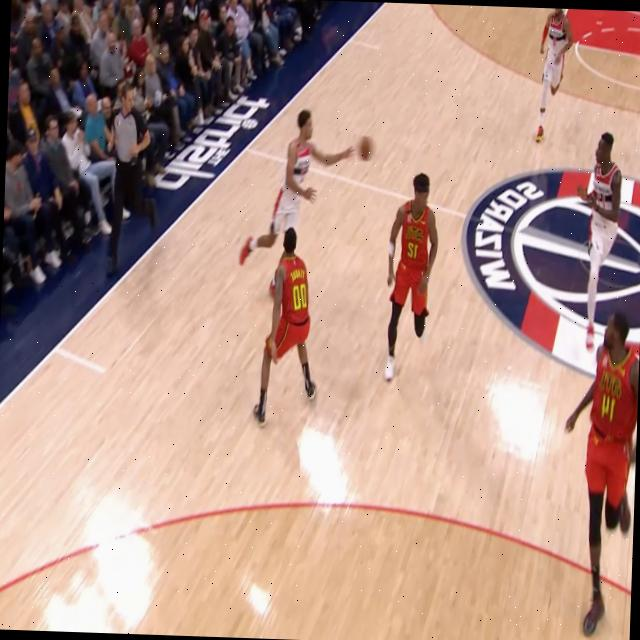no foul: (220, 99, 385, 448)
